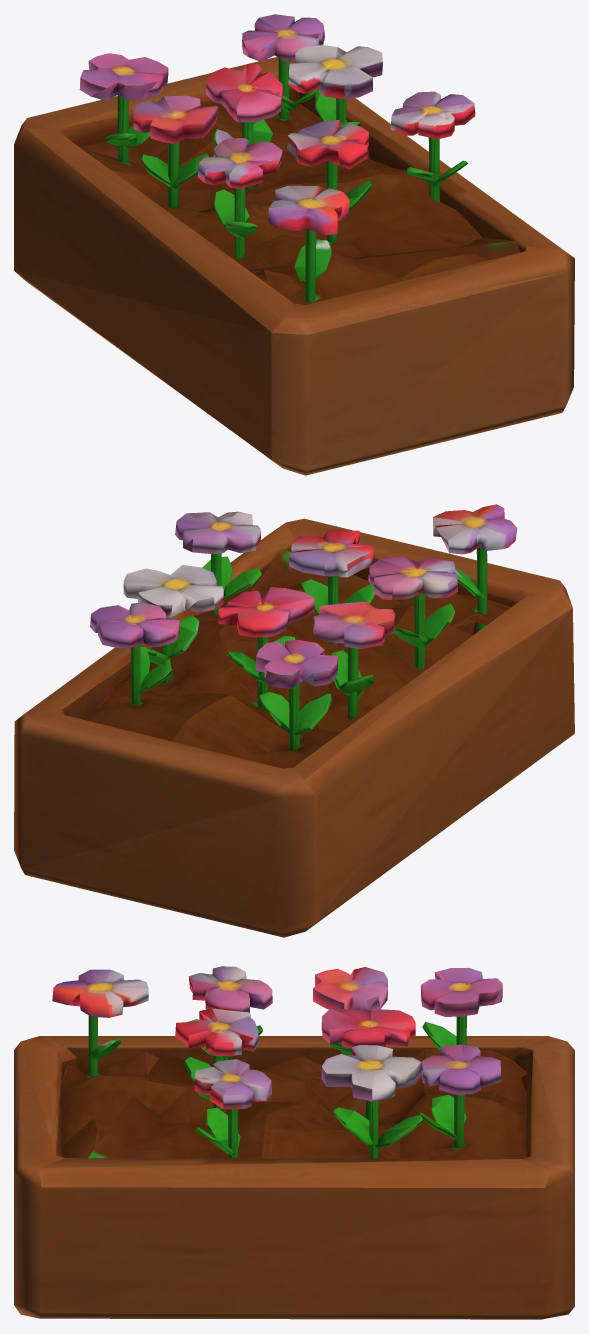
Rendered from plot-tray-blooms.glb.
The picture shows the model from 3 angles, top to bottom: view 1: azimuth 30°, elevation 25°; view 2: azimuth 150°, elevation 25°; view 3: azimuth 270°, elevation 25°; orthographic projection.
Size of the model in its own units: 0.6133 by 0.4482 by 1.
Materials: 1 (1 with a texture image).
